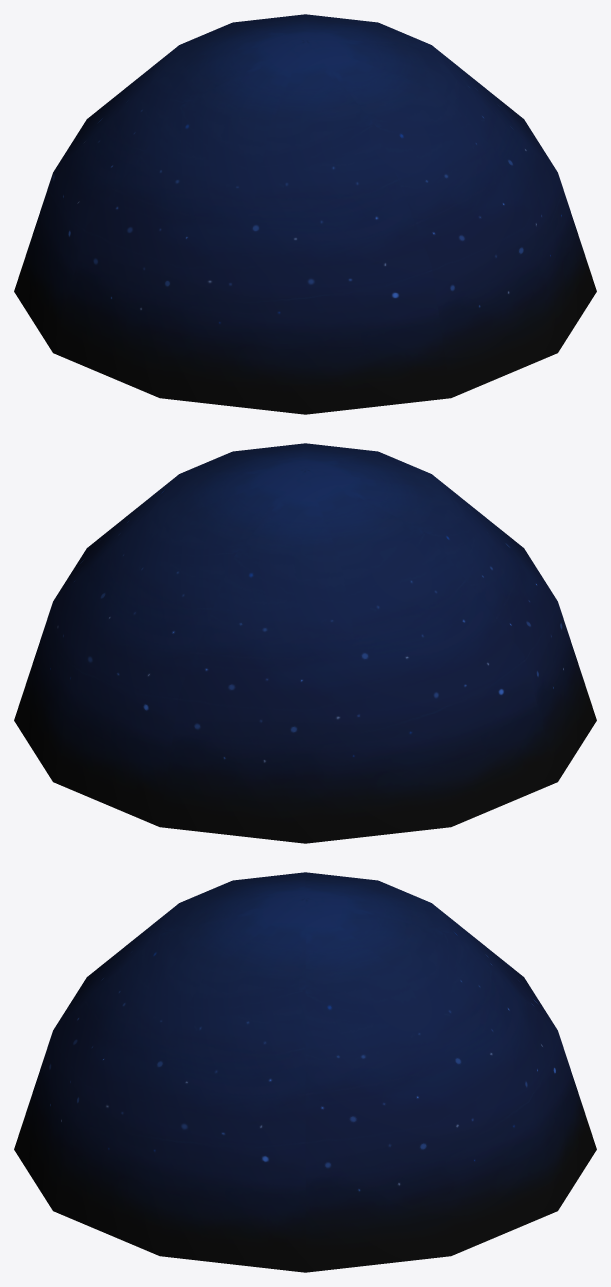
File: daZaoTeXie.FBX
3 renders of one model, top to bottom at view 1: azimuth 30°, elevation 25°; view 2: azimuth 150°, elevation 25°; view 3: azimuth 270°, elevation 25°, orthographic.
Parts seen in each view (by area): view 1: Sphere01; view 2: Sphere01; view 3: Sphere01.
Boxes of the visible parts, box(x1,y1,x2,y2) form: Sphere01: box(14, 14, 596, 414); Sphere01: box(14, 443, 596, 843); Sphere01: box(14, 872, 596, 1272).
Bounding box in the file's own units: 2640 × 1320 × 2640.
1 material, 1 textured.
